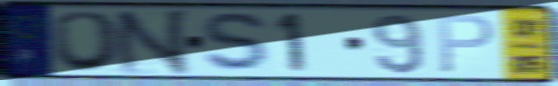1: (273, 11, 309, 75)
9: (367, 12, 427, 76)
N: (110, 7, 192, 77)
O: (50, 9, 125, 73)
P: (437, 13, 498, 75)
S: (199, 10, 276, 75)
